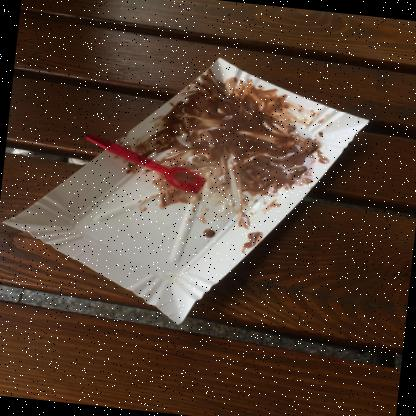Meal carton: (2, 57, 369, 324)
Plastic utensils: (84, 133, 206, 193)
